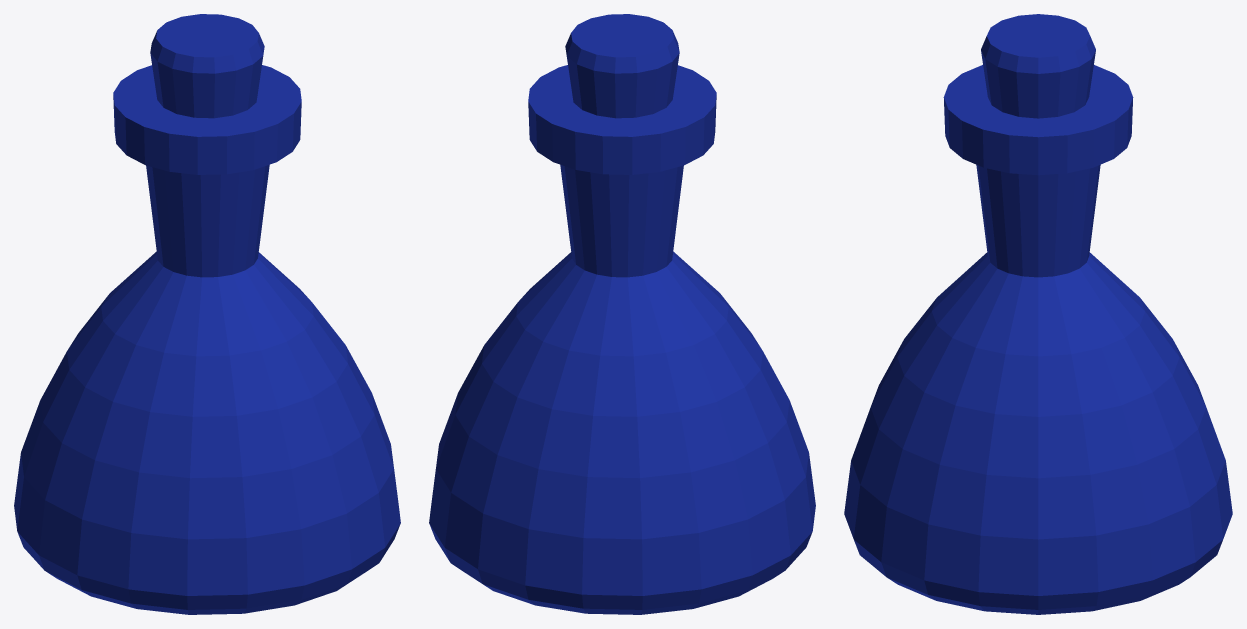
The model's file is Bottle.fbx.
3 views of the same model, side by side, from view 1: azimuth 30°, elevation 25°; view 2: azimuth 150°, elevation 25°; view 3: azimuth 270°, elevation 25° (orthographic).
Visible parts, largest first — view 1: Bottle_mesh; view 2: Bottle_mesh; view 3: Bottle_mesh.
Boxes of the visible parts, x1=… form: Bottle_mesh: x1=14, y1=14, x2=400, y2=614; Bottle_mesh: x1=429, y1=14, x2=815, y2=614; Bottle_mesh: x1=844, y1=14, x2=1232, y2=614.
Bounding box in the file's own units: 1.36 × 1.95 × 1.36.
